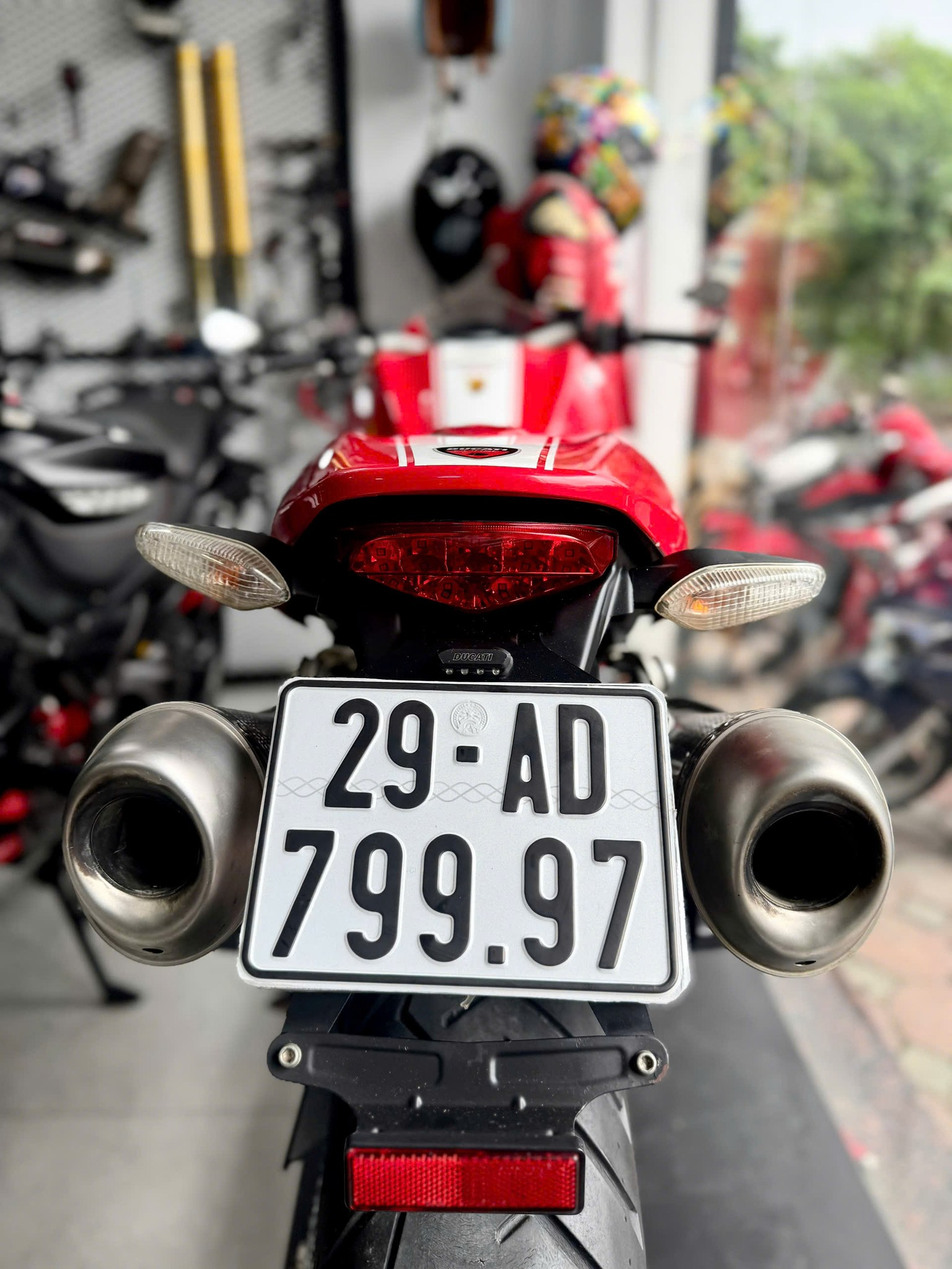bien_so: (227, 661, 705, 1021)
